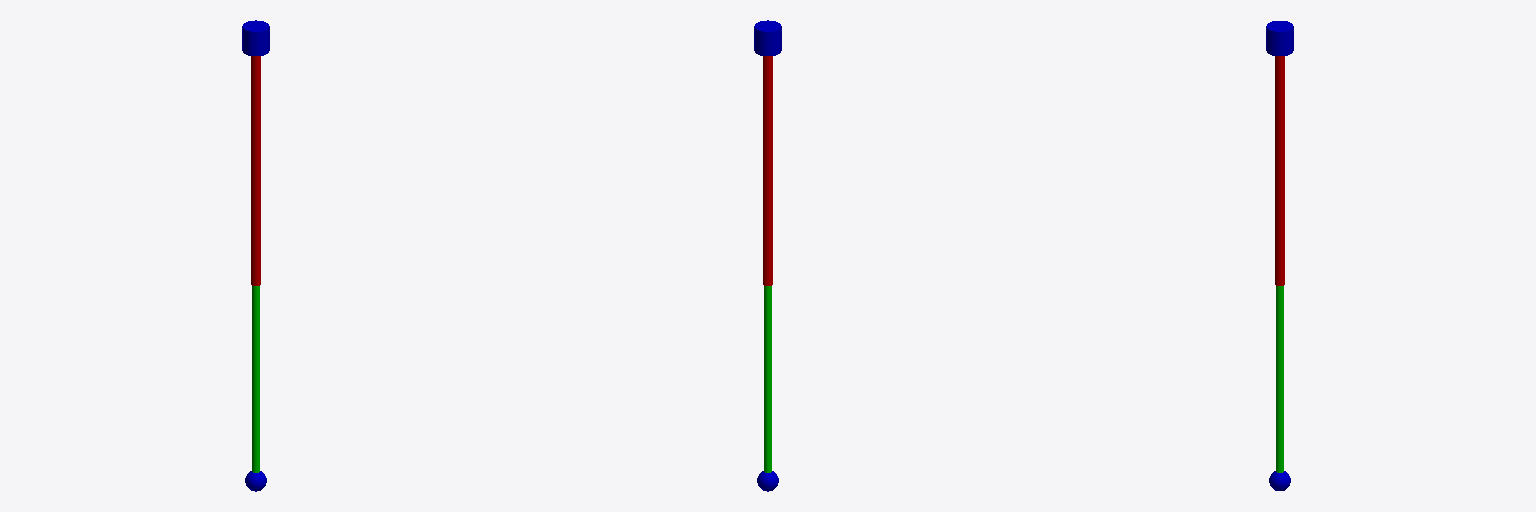
URDF robot description (double_pendulum):
<?xml version="1.0"?>
<robot name="double_pendulum">

  <!-- 材料定义 -->
  <material name="blue">
    <color rgba="0 0 0.8 1"/>
  </material>
  <material name="red">
    <color rgba="0.8 0 0 1"/>
  </material>
  <material name="green">
    <color rgba="0 0.8 0 1"/>
  </material>

  <!-- 1. 基座链接 -->
  <link name="base_link">
    <visual>
      <geometry>
        <cylinder length="0.1" radius="0.05"/>
      </geometry>
      <material name="blue"/>
    </visual>
    <collision>
      <geometry>
        <cylinder length="0.1" radius="0.05"/>
      </geometry>
    </collision>
    <inertial>
      <mass value="2.0"/>
      <inertia ixx="0.01" ixy="0.0" ixz="0.0" iyy="0.01" iyz="0.0" izz="0.01"/>
    </inertial>
  </link>

  <!-- 2. 第一摆杆 -->
  <link name="first_link">
    <visual>
      <geometry>
        <cylinder length="1.0" radius="0.02"/>
      </geometry>
      <material name="red"/>
      <origin xyz="0 0 -0.5" rpy="0 0 0"/>
    </visual>
    <collision>
      <geometry>
        <cylinder length="1.0" radius="0.02"/>
      </geometry>
      <origin xyz="0 0 -0.5" rpy="0 0 0"/>
    </collision>
    <inertial>
      <mass value="0.5"/>
      <origin xyz="0 0 -0.5"/>
      <inertia ixx="0.05" ixy="0.0" ixz="0.0" iyy="0.05" iyz="0.0" izz="0.001"/>
    </inertial>
  </link>

  <!-- 3. 第二摆杆 -->
  <link name="second_link">
    <visual>
      <geometry>
        <cylinder length="0.8" radius="0.015"/>
      </geometry>
      <material name="green"/>
      <origin xyz="0 0 -0.4" rpy="0 0 0"/>
    </visual>
    <collision>
      <geometry>
        <cylinder length="0.8" radius="0.015"/>
      </geometry>
      <origin xyz="0 0 -0.4" rpy="0 0 0"/>
    </collision>
    <inertial>
      <mass value="0.3"/>
      <origin xyz="0 0 -0.4"/>
      <inertia ixx="0.02" ixy="0.0" ixz="0.0" iyy="0.02" iyz="0.0" izz="0.0005"/>
    </inertial>
  </link>

  <!-- 4. 末端质量块 -->
  <link name="Link7">
    <visual>
      <geometry>
        <sphere radius="0.04"/>
      </geometry>
      <material name="blue"/>
    </visual>
    <collision>
      <geometry>
        <sphere radius="0.04"/>
      </geometry>
    </collision>
    <inertial>
      <mass value="0.2"/>
      <origin xyz="0 0 0"/>
      <inertia ixx="0.0001" ixy="0.0" ixz="0.0" iyy="0.0001" iyz="0.0" izz="0.0001"/>
    </inertial>
  </link>

  <!-- 关节定义 -->
  <joint name="base_to_first" type="revolute">
    <parent link="base_link"/>
    <child link="first_link"/>
    <origin xyz="0 0 0" rpy="0 0 0"/>
    <axis xyz="0 1 0"/>
    <limit lower="-3.14" upper="3.14" effort="10.0" velocity="10.0"/>
  </joint>

  <joint name="first_to_second" type="revolute">
    <parent link="first_link"/>
    <child link="second_link"/>
    <origin xyz="0 0 -1.0" rpy="0 0 0"/>
    <axis xyz="0 1 0"/>
    <limit lower="-3.14" upper="3.14" effort="10.0" velocity="10.0"/>
  </joint>

  <joint name="second_to_end" type="fixed">
    <parent link="second_link"/>
    <child link="Link7"/>
    <origin xyz="0 0 -0.8" rpy="0 0 0"/>
  </joint>

</robot>

--- Facts derived from the render (not from the file) ---
Views: 3 orthographic renders of the robot side by side, from view 1: azimuth 30°, elevation 25°; view 2: azimuth 150°, elevation 25°; view 3: azimuth 270°, elevation 25°.
Model double_pendulum with 4 links and 3 joints (2 revolute, 1 fixed), rooted at base_link, posed all joints at 0.
Links seen in each view (by area): view 1: first_link, second_link, base_link; view 2: first_link, second_link, base_link; view 3: first_link, second_link, base_link.
Link boxes in pixels (<box>): first_link: <box>251,56,260,285</box>; second_link: <box>252,286,259,472</box>; base_link: <box>242,20,269,55</box>; first_link: <box>763,56,772,285</box>; second_link: <box>764,286,771,472</box>; base_link: <box>754,20,781,55</box>; first_link: <box>1275,56,1284,285</box>; second_link: <box>1276,286,1283,472</box>; base_link: <box>1266,21,1293,55</box>.
Bounding box of the posed robot: 0.1 × 0.1 × 1.89 m (x, y, z).
Geometry: primitives only (box / cylinder / sphere), no mesh files.
